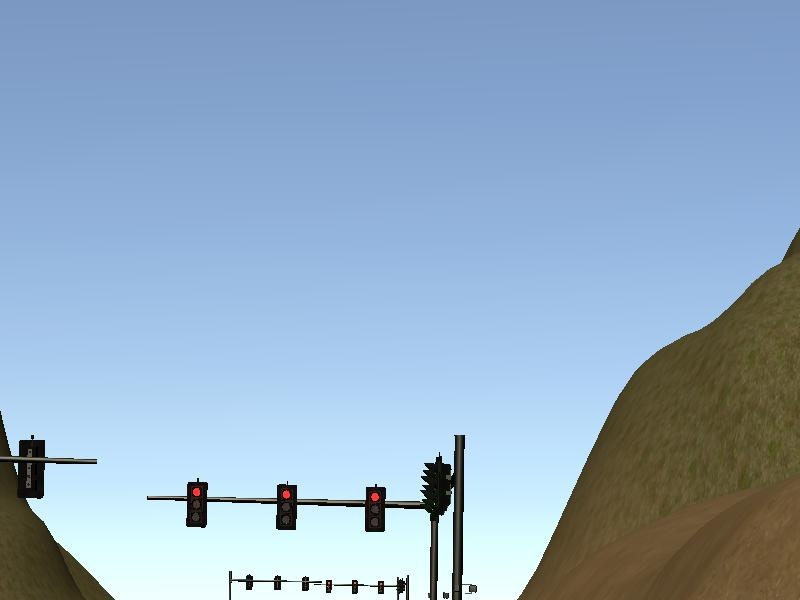red: (363, 478, 390, 541), (275, 481, 300, 534), (187, 481, 207, 529)
